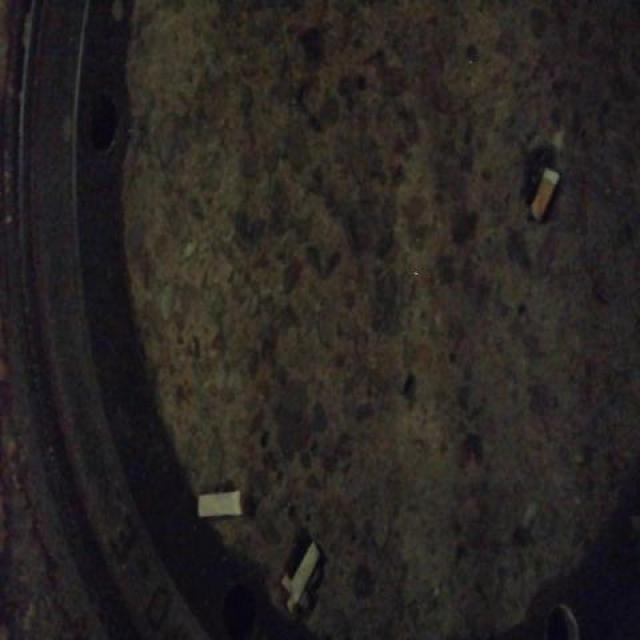non-organic waste: (286, 538, 323, 606), (528, 161, 561, 224), (193, 484, 246, 520)
